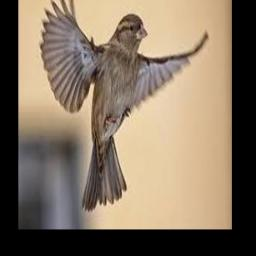Sparrow: (40, 0, 208, 210)
